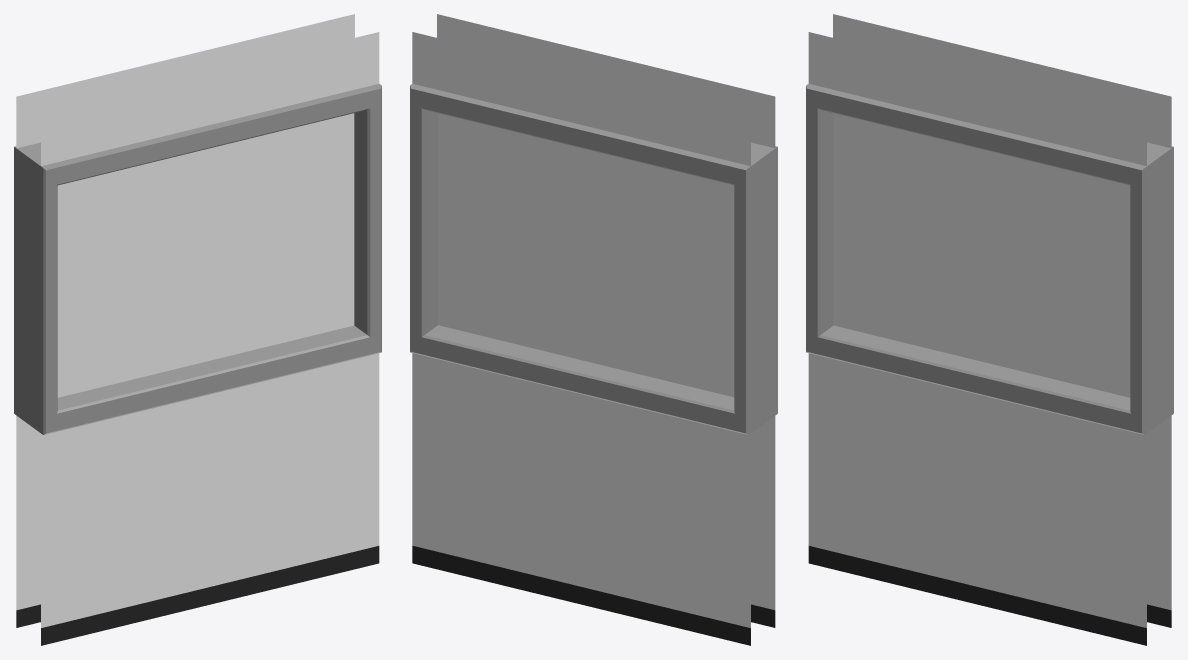
The model's file is interiorWindowWall_line_2_white.fbx.
The picture shows the model from 3 angles, left to right: view 1: azimuth 30°, elevation 25°; view 2: azimuth 150°, elevation 25°; view 3: azimuth 330°, elevation 25°; orthographic projection.
Visible parts, largest first — view 1: wall, glassWall; view 2: wall, glassWall; view 3: wall, glassWall.
Boxes of the visible parts, x1,y1,x2,y2 form: wall: [14, 14, 381, 645]; glassWall: [57, 113, 354, 397]; wall: [410, 14, 777, 645]; glassWall: [438, 113, 734, 397]; wall: [806, 14, 1173, 645]; glassWall: [833, 113, 1130, 397].
Size of the model in its own units: 200 by 300 by 31.96.
